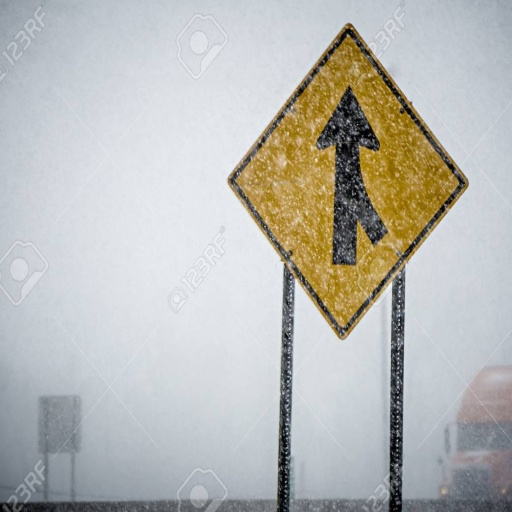Merge road: (220, 12, 468, 354)
